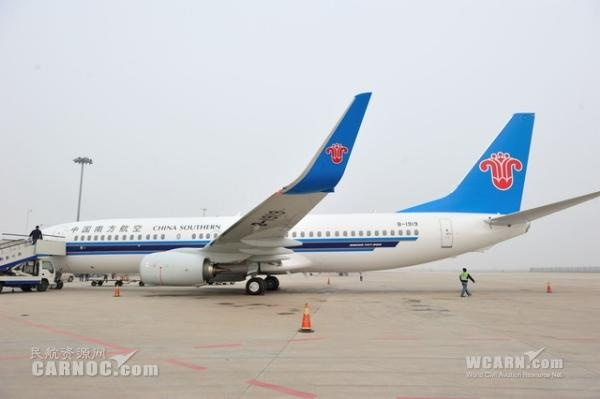airplane: (47, 91, 587, 292)
person: (28, 220, 44, 244)
